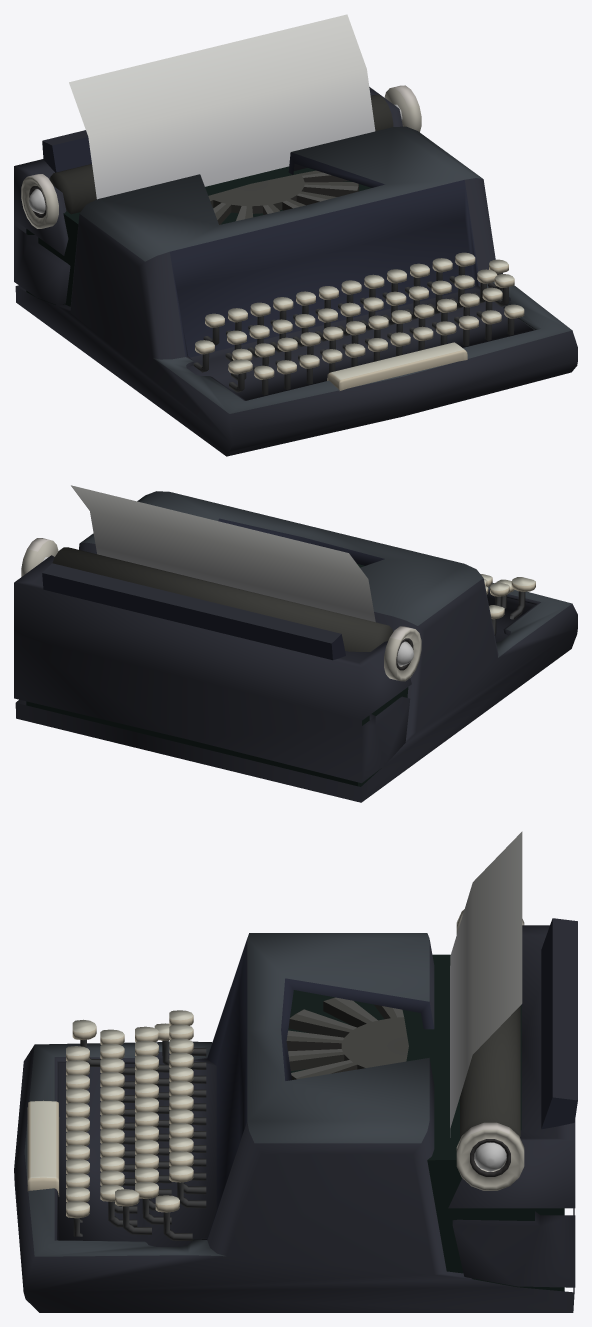
File: typewriter-black.fbx
The picture shows the model from 3 angles, top to bottom: view 1: azimuth 30°, elevation 25°; view 2: azimuth 150°, elevation 25°; view 3: azimuth 270°, elevation 25°; orthographic projection. The views are drawn at different scales.
Parts seen in each view (by area): view 1: Typewriter.Black, Paper.Black; view 2: Typewriter.Black, Paper.Black; view 3: Typewriter.Black, Paper.Black.
Boxes of the visible parts, left/top/right/bottom form: Typewriter.Black: left=14, top=85, right=577, bottom=456; Paper.Black: left=69, top=14, right=375, bottom=199; Typewriter.Black: left=14, top=491, right=577, bottom=802; Paper.Black: left=71, top=485, right=375, bottom=622; Typewriter.Black: left=14, top=909, right=577, bottom=1312; Paper.Black: left=450, top=831, right=522, bottom=1137.
Bounding box in the file's own units: 53.89 × 30.62 × 54.32.
